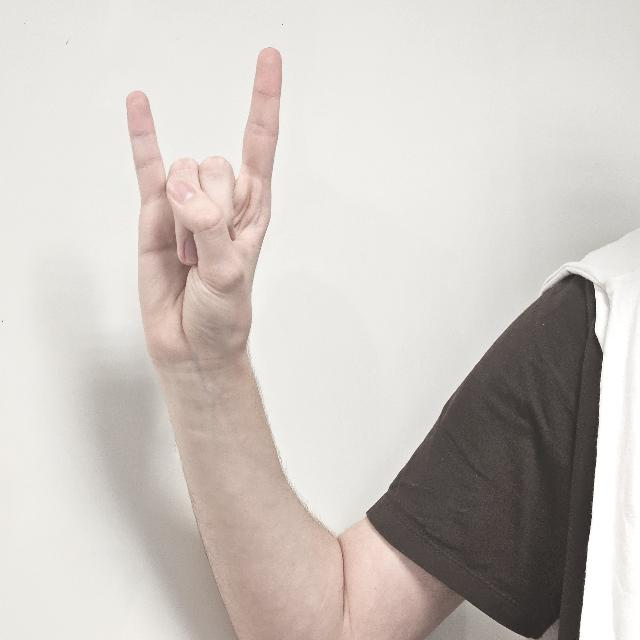L: (127, 46, 283, 386)
